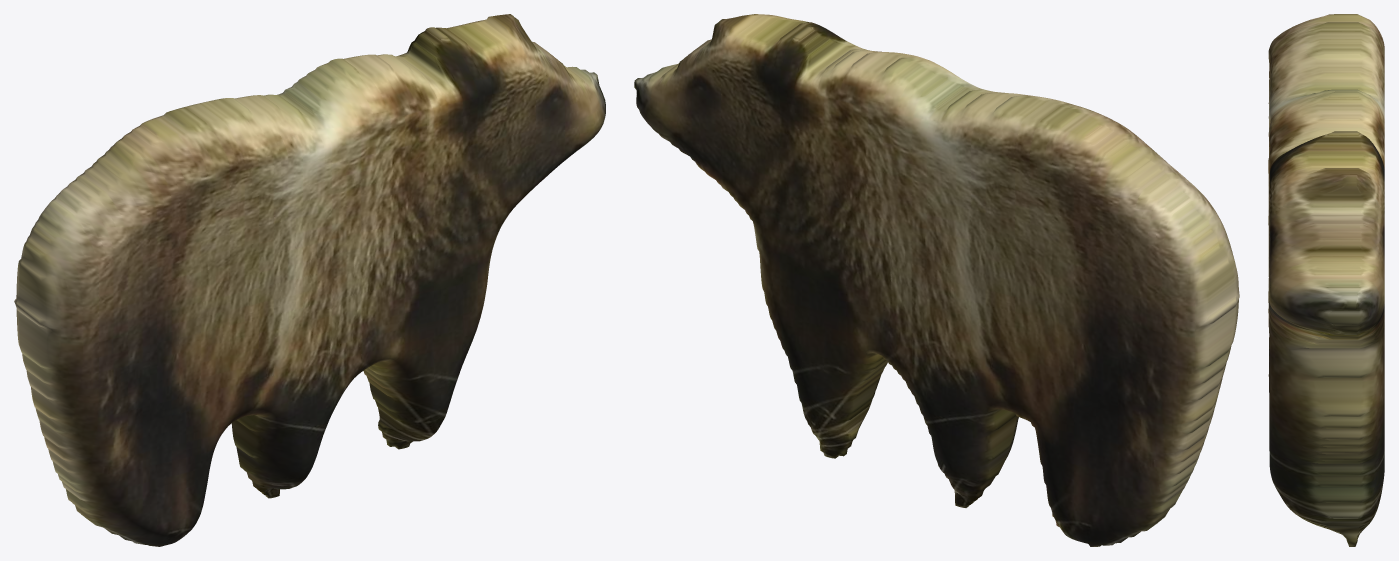
Rendered from brown_bear_24160860.glb.
3 renders of one model, left to right at view 1: azimuth 30°, elevation 25°; view 2: azimuth 150°, elevation 25°; view 3: azimuth 270°, elevation 25°, orthographic. The views are drawn at different scales.
Visible parts, largest first — view 1: brown_bear_24160860; view 2: brown_bear_24160860; view 3: brown_bear_24160860.
Part boxes in pixels (box(x1,y1,x2,y2)): brown_bear_24160860: box(14, 14, 605, 546); brown_bear_24160860: box(634, 14, 1239, 546); brown_bear_24160860: box(1268, 14, 1384, 546).
Bounding box in the file's own units: 1.97 × 1.41 × 0.3305.
1 material, 1 textured.
